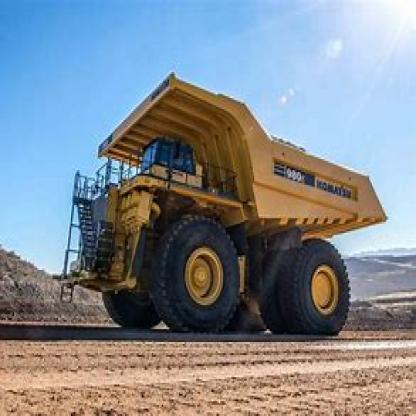dump_truck: (61, 68, 392, 346)
